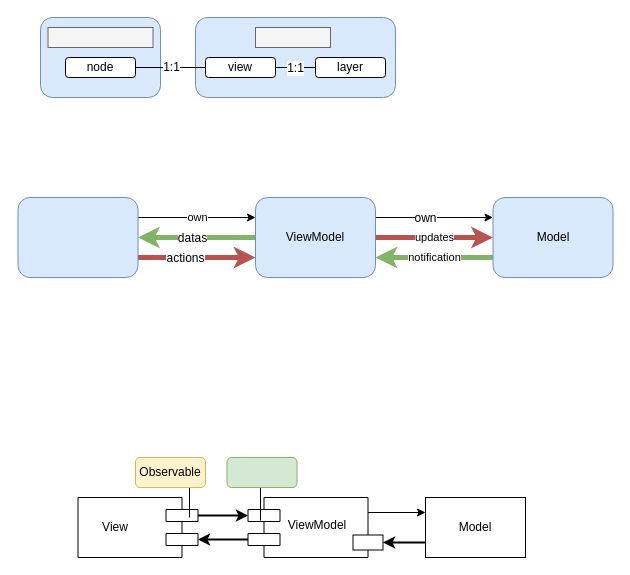
The diagram is 630 pixels wide and 575 high, and some of its shapes have lost their labels. The shapes that lost their labels are listed below. From the top down, each one's centre as x and y in pixels, then its label:
At point 100,37: "background thread".
At point 292,37: "main thread".
At point 77,237: "View (View/ViewController)".
At point 261,472: "Observer".
